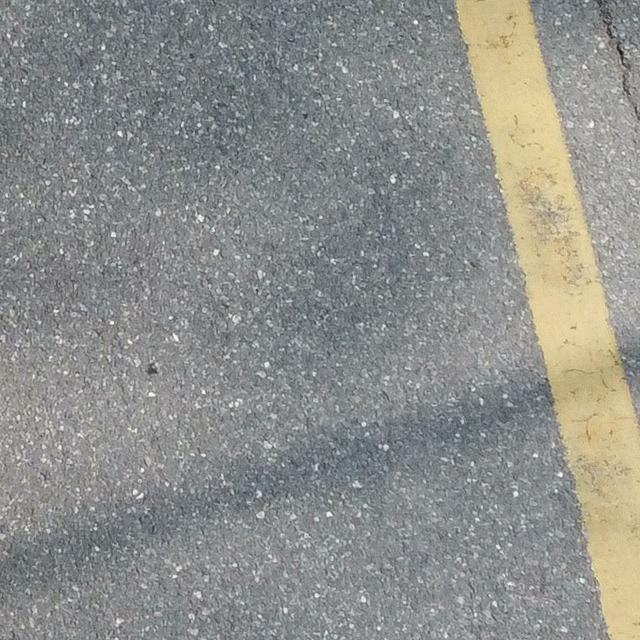LongitudinalCrack: (598, 1, 640, 125)
